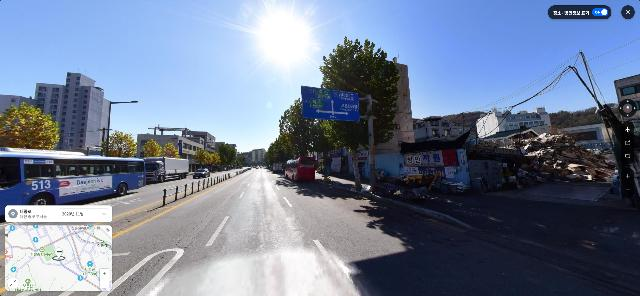ginkgo: (0, 102, 60, 152), (99, 129, 137, 157), (140, 140, 163, 159), (163, 143, 180, 159)
other: (312, 36, 402, 191), (278, 97, 333, 180), (266, 136, 296, 171), (214, 142, 237, 171), (190, 148, 209, 172), (266, 146, 284, 171), (206, 152, 215, 172), (212, 153, 220, 172), (236, 152, 244, 168)
